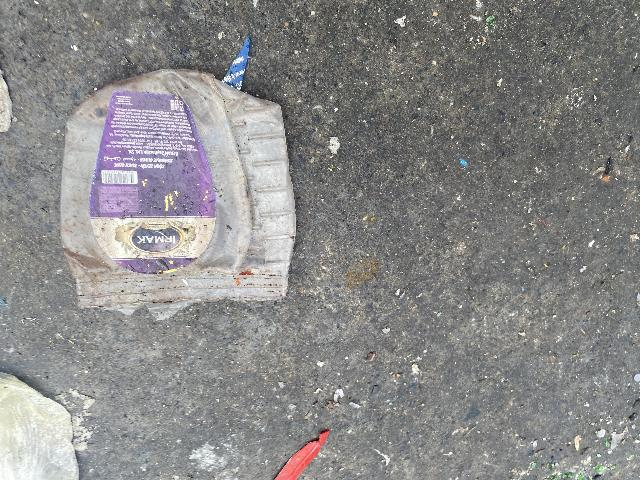Plastik: (59, 78, 295, 306), (0, 373, 81, 480), (214, 31, 263, 88)
